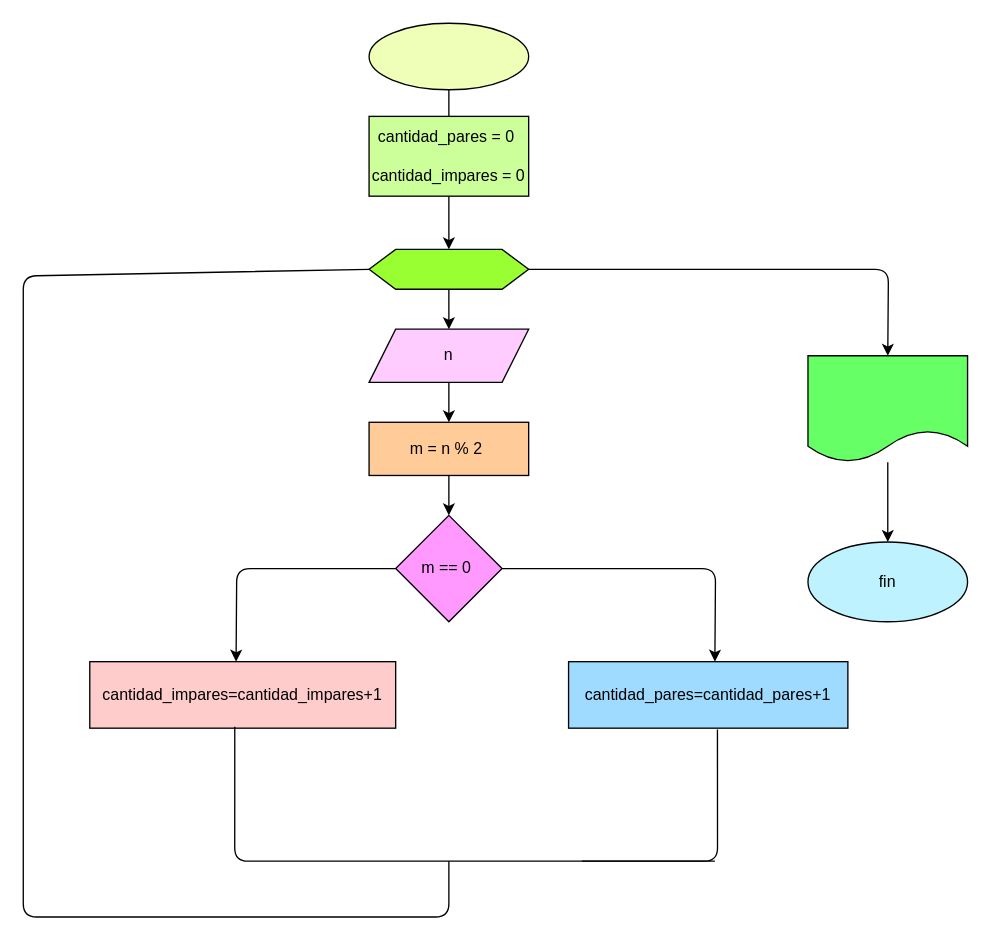
This 991x942 diagram has some shape labels left out. The shapes that lost their labels are listed below. From the top down, each one's box as (x1, y1, x2, y2) in pixels, then its label:
(368, 22, 529, 90): inicio
(368, 248, 529, 289): i = 0, 19
(807, 354, 968, 462): cantidad_par cantidad_impar
